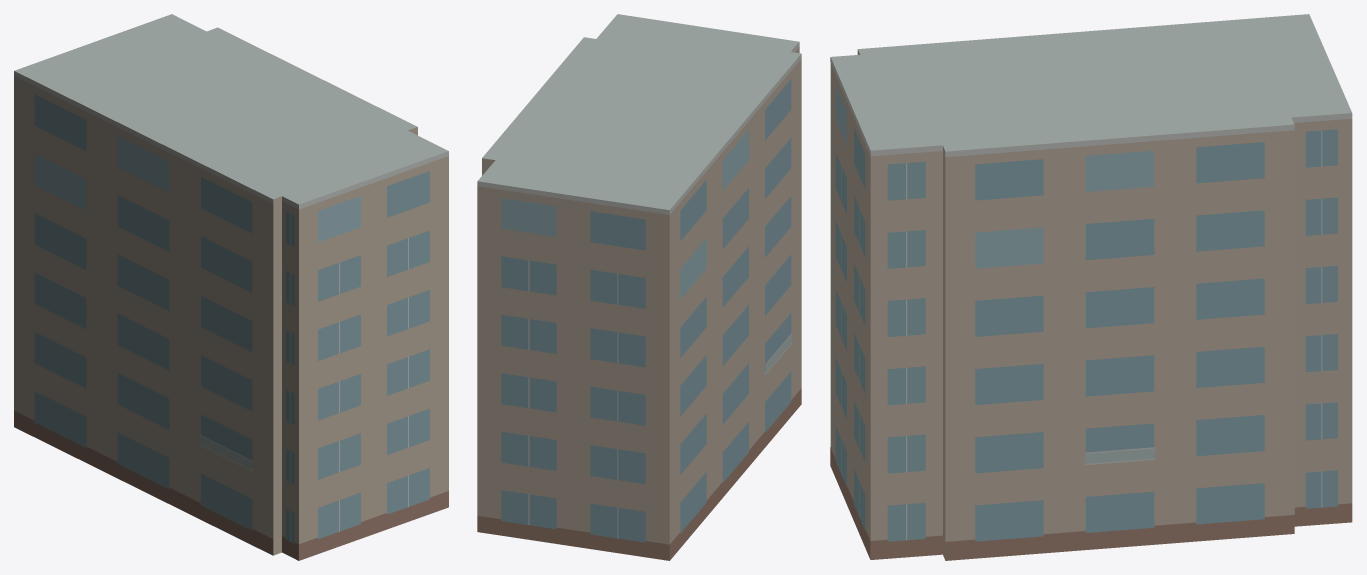
The model's file is survey-upis-32706423.glb.
3 views of the same model, side by side, from view 1: azimuth 30°, elevation 25°; view 2: azimuth 150°, elevation 25°; view 3: azimuth 270°, elevation 25° (orthographic). The views are drawn at different scales.
Visible parts, largest first — view 1: survey-upis-32706423.tmp; view 2: survey-upis-32706423.tmp; view 3: survey-upis-32706423.tmp.
Part boxes in pixels (bbox=[...]): survey-upis-32706423.tmp: bbox=[14, 14, 448, 560]; survey-upis-32706423.tmp: bbox=[477, 14, 801, 560]; survey-upis-32706423.tmp: bbox=[830, 14, 1352, 560].
Size of the model in its own units: 12.81 by 17.75 by 20.52.
